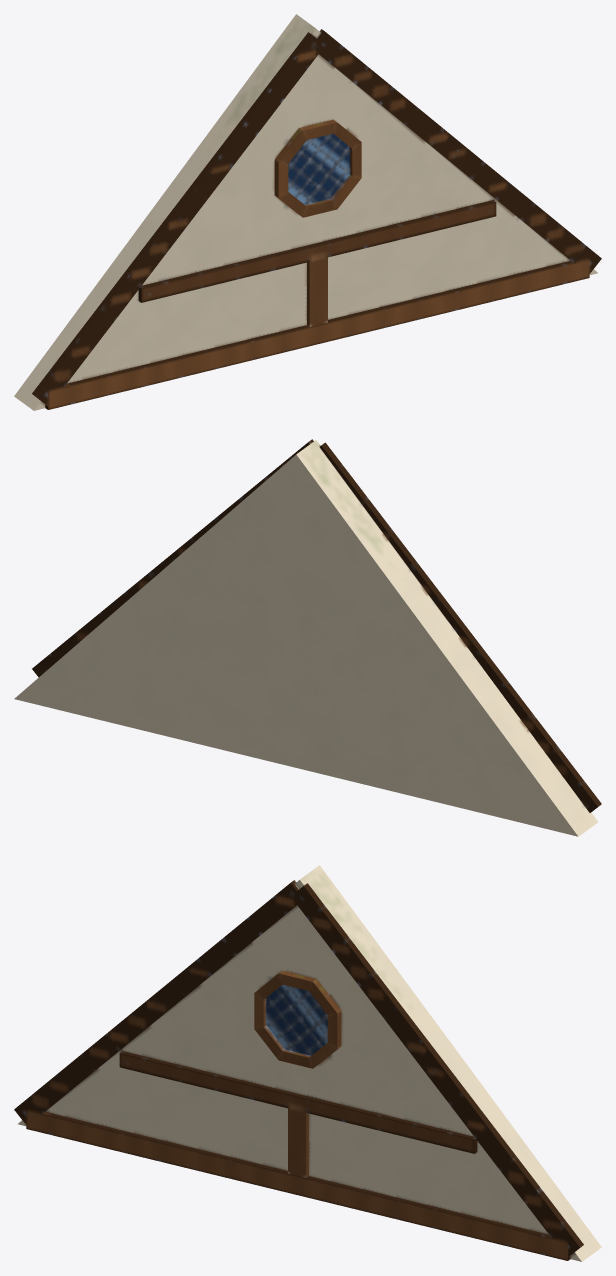
Rendered from Kit_House_Gable.fbx.
3 renders of one model, top to bottom at view 1: azimuth 30°, elevation 25°; view 2: azimuth 150°, elevation 25°; view 3: azimuth 330°, elevation 25°, orthographic.
Visible parts, largest first — view 1: Kit_House_Gable_LOD0; view 2: Kit_House_Gable_LOD0; view 3: Kit_House_Gable_LOD0.
Boxes of the visible parts, box(x1,y1,x2,y2) form: Kit_House_Gable_LOD0: box(14, 14, 601, 410); Kit_House_Gable_LOD0: box(14, 439, 601, 836); Kit_House_Gable_LOD0: box(14, 865, 601, 1261).
Size of what is drawn, in the model's own units: 4.91 by 2.6 by 0.36.
Materials: 1 (1 with a texture image).
